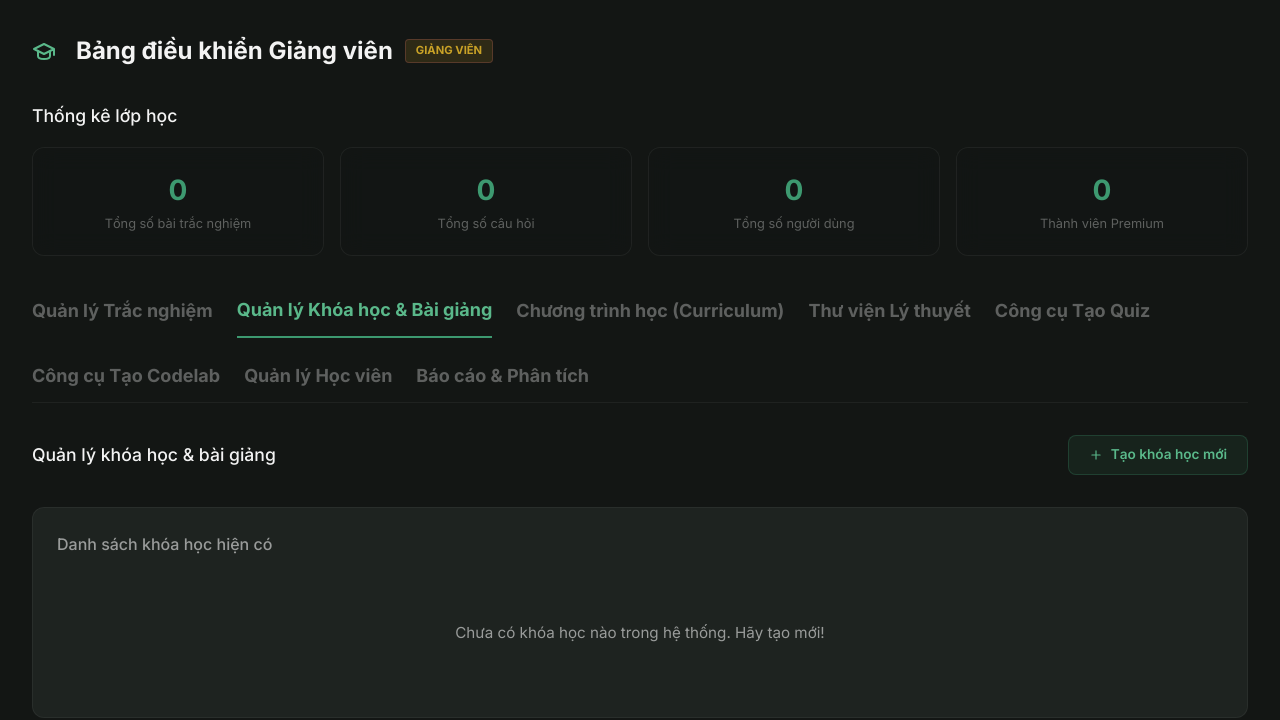
Test: TeacherPanelView — P0 Tests › Tab Navigation › switches to analytics tab when clicked
Click the tab "Báo cáo & Phân tích": (503, 382) [416,362,589,402]
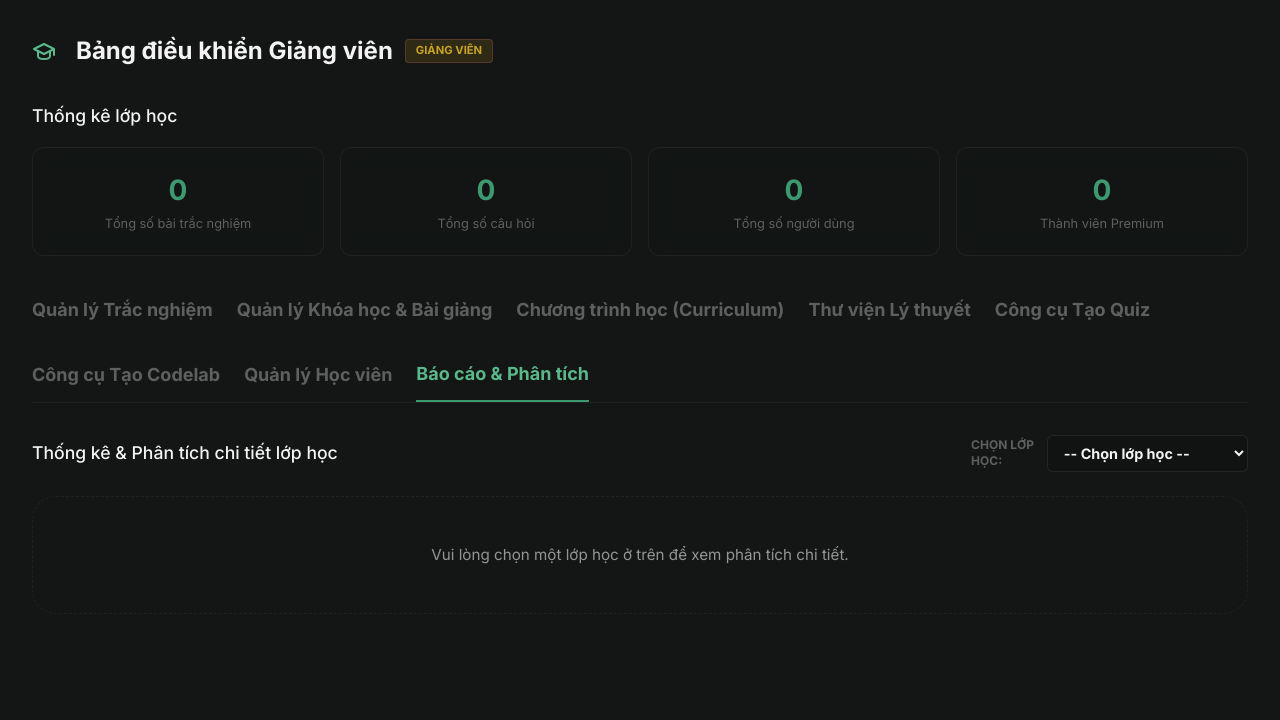
Now the text "Thống kê & Phân tích chi tiết lớp học" is shown, box [32,439,338,467]
